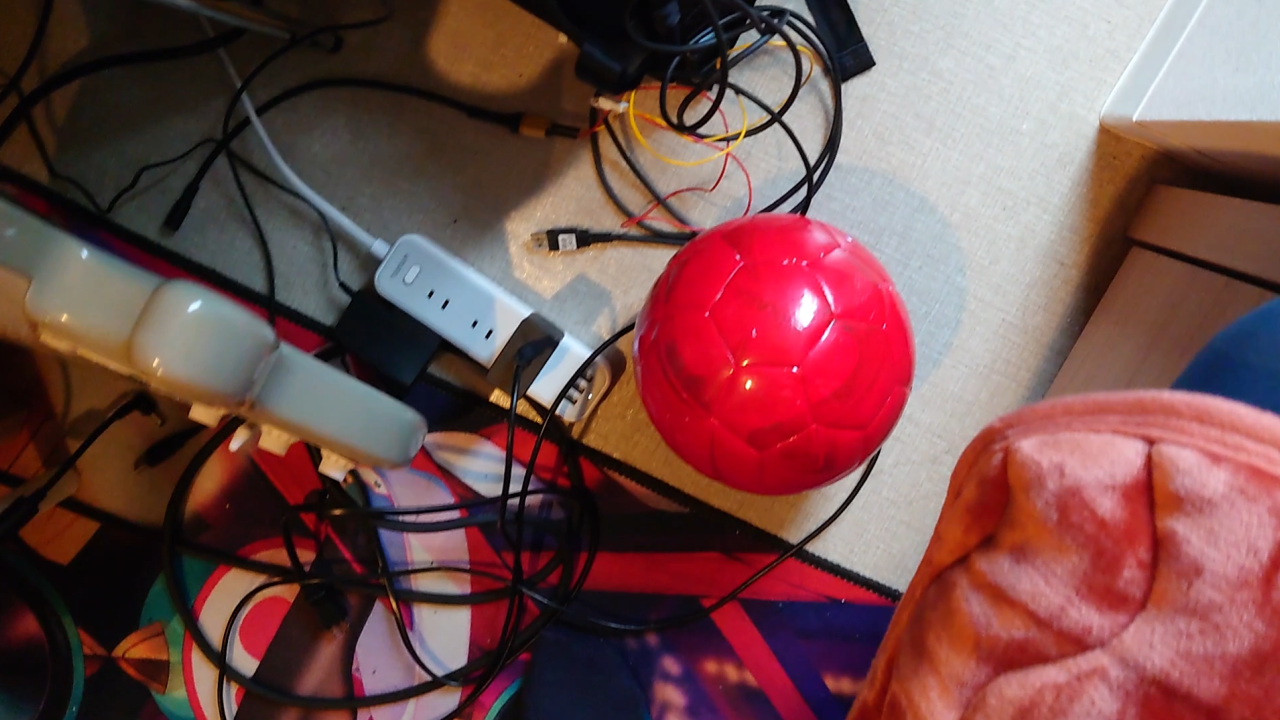red: (631, 222, 913, 499)
